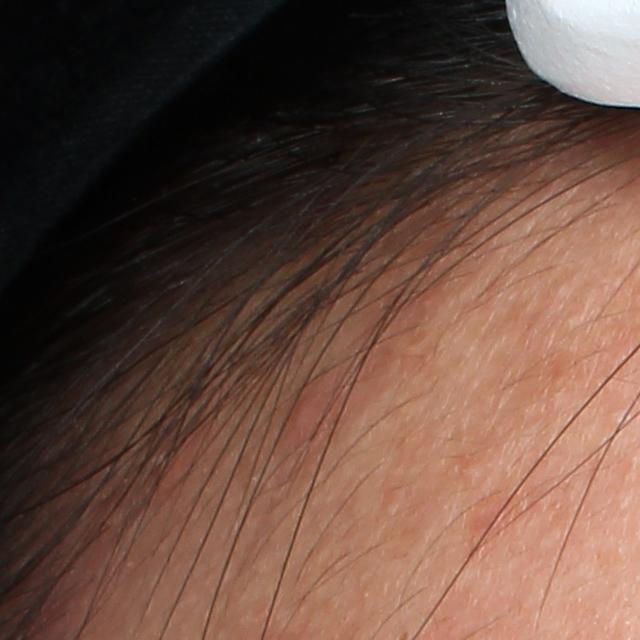papule: (279, 382, 329, 442)
